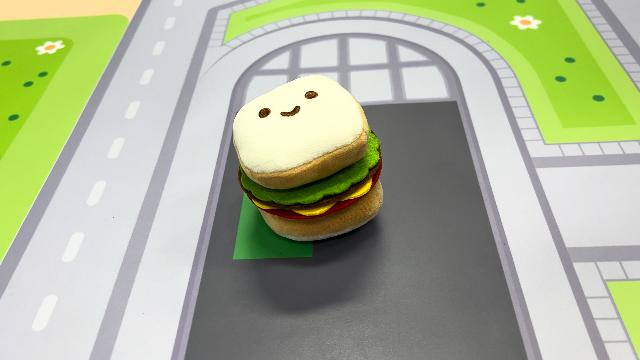sandwich: (230, 72, 386, 243)
